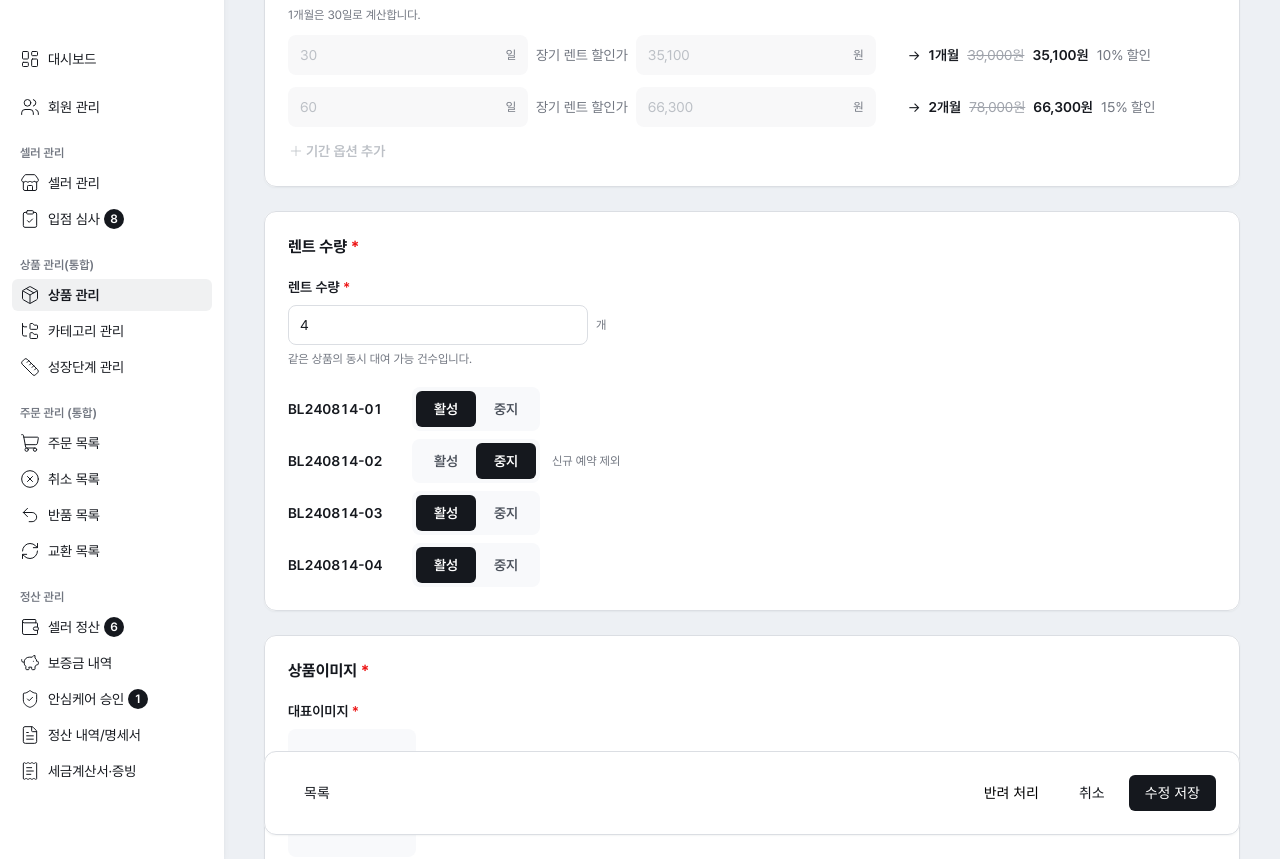
ProductDetailPage (상품 상세 · 1단계) › 렌트 수량 — 슬롯 › 슬롯을 중지해 활성 수가 진행 중 예약보다 적어지면 「신규 예약 차단 중」 이 켜지고, 되돌리면 꺼진다
(page scrolled)
Expected: the text "신규 예약 차단 중" is not shown
Click the radio button labelled "중지" in the row of "BL240814-01" at [506, 409], box [476,391,536,427]
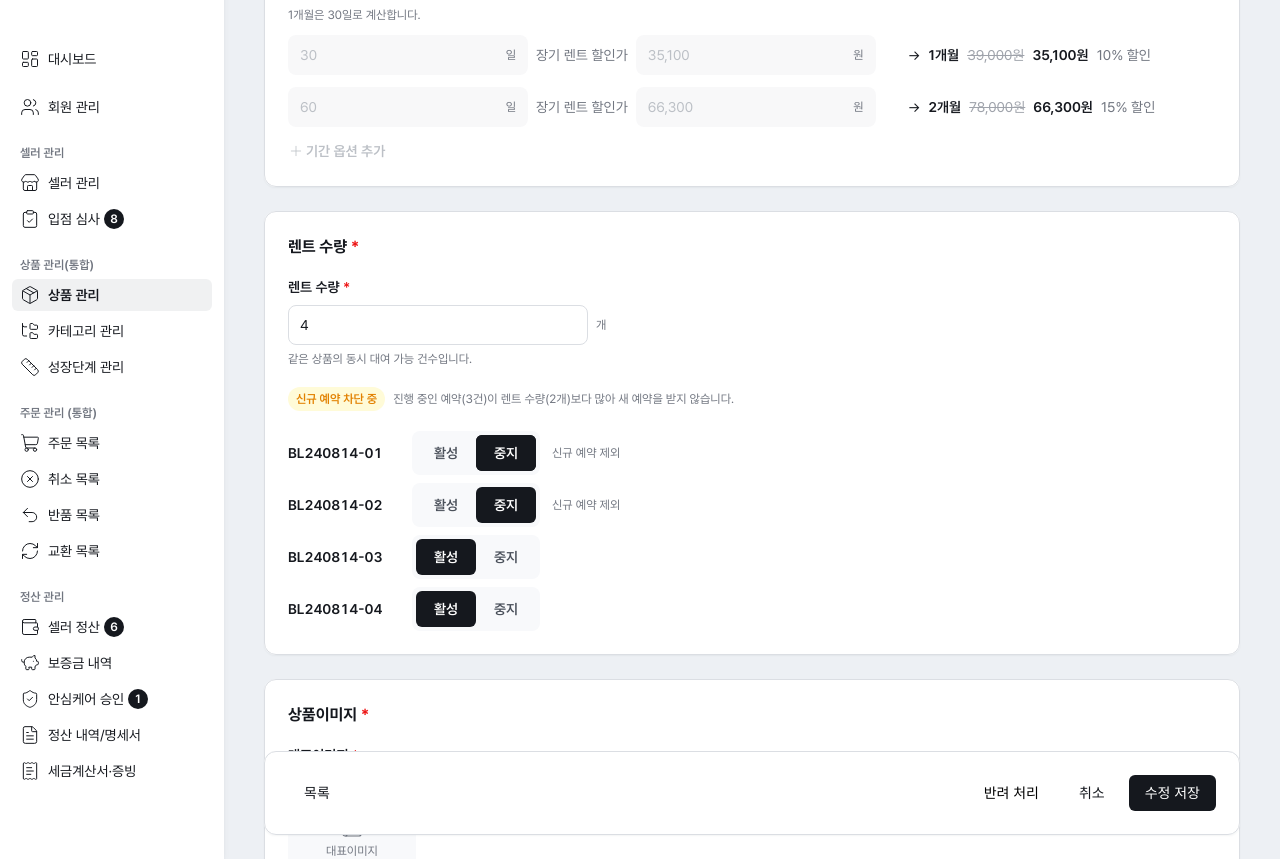
Expected: the text "신규 예약 차단 중" is shown, [288,387,385,411]
Expected: the text "진행 중인 예약(3건)이 렌트 수량(2개)보다 많아 새 예약을 받지 않습니다." is shown, [393,391,734,407]
Click the radio button labelled "활성" next to "BL240814-01" at [446, 453], box [416,435,476,471]
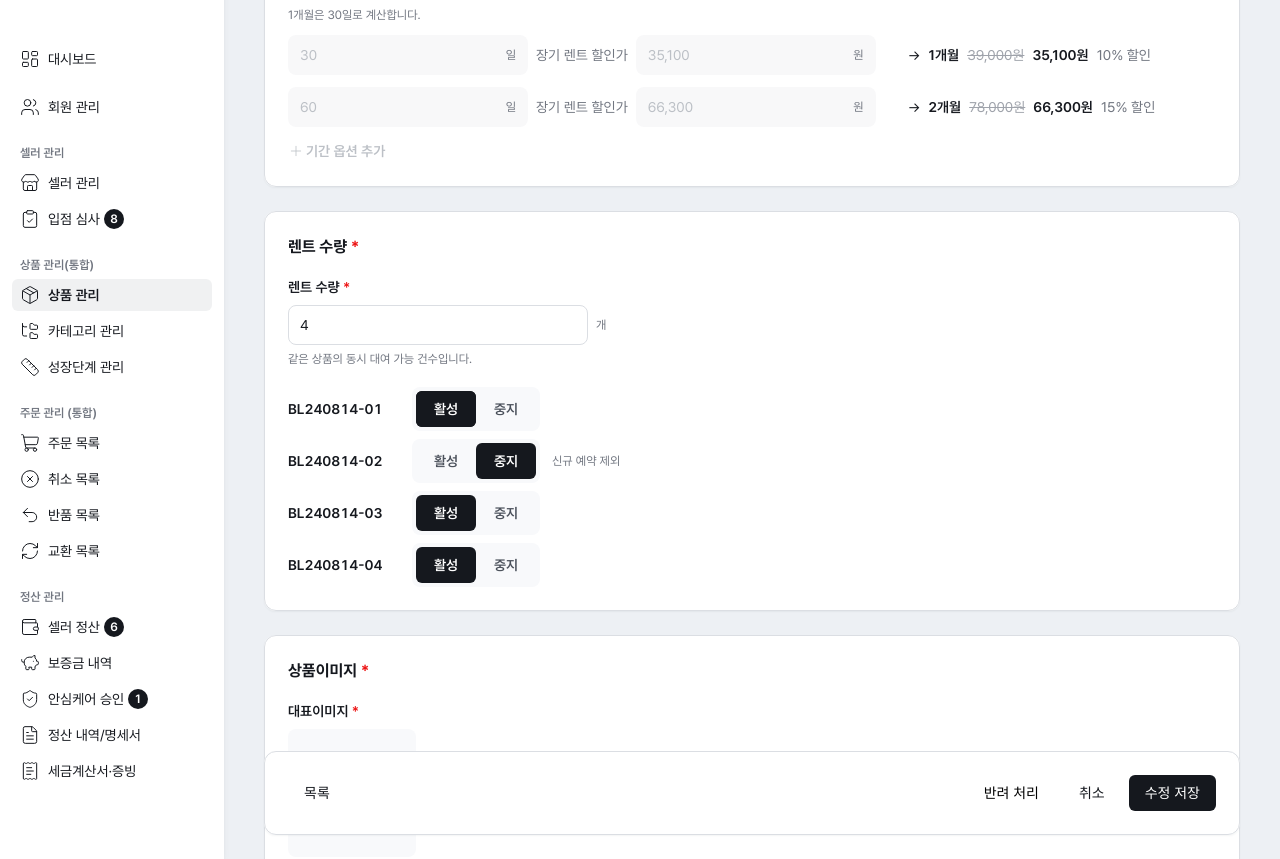
Expected: the text "신규 예약 차단 중" is gone
